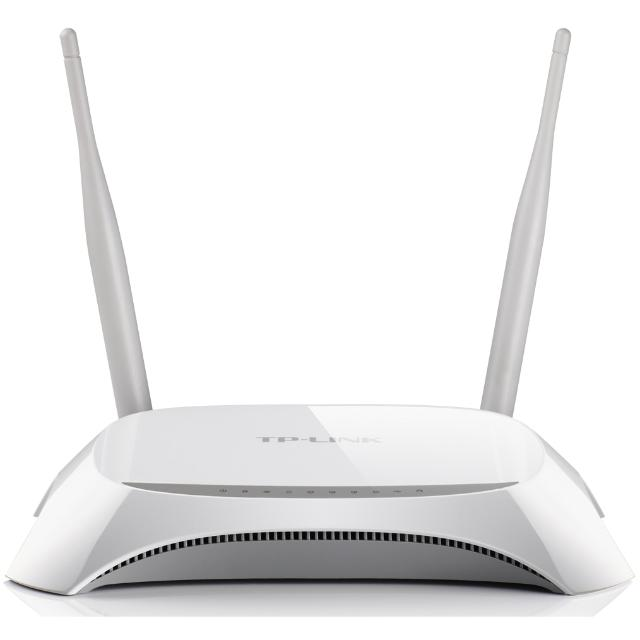Router: (3, 26, 636, 605)
